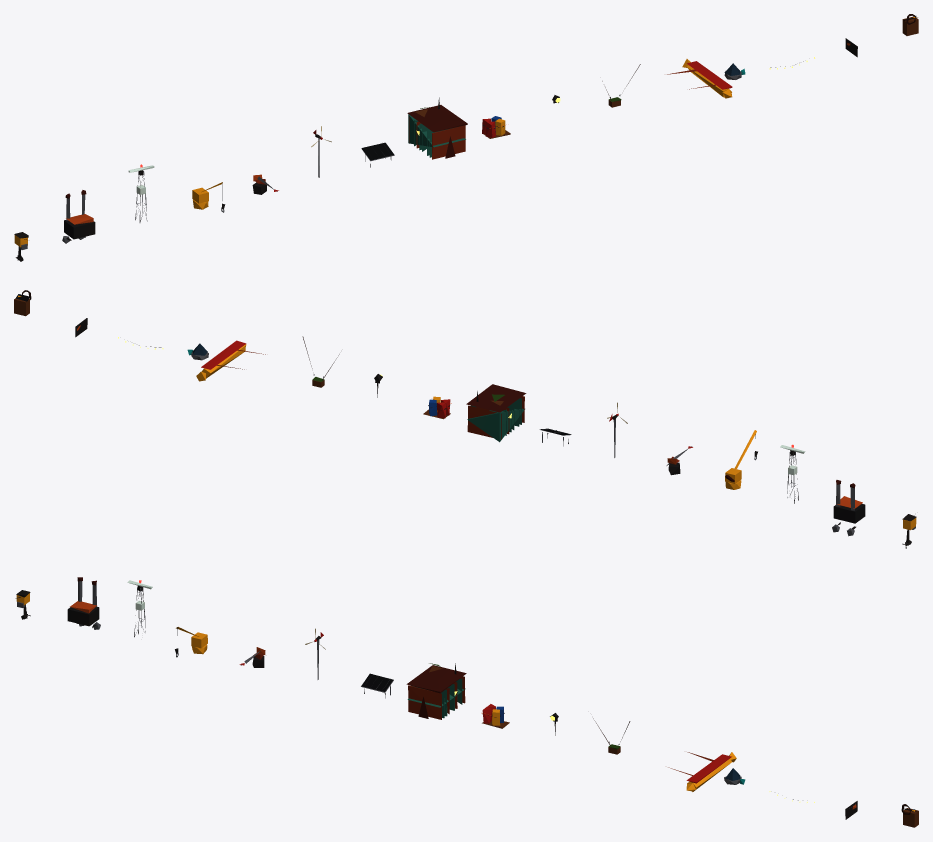
The model's file is tb_boat_kit.three-web-toon.lod25.glb.
3 renders of one model, top to bottom at view 1: azimuth 30°, elevation 25°; view 2: azimuth 150°, elevation 25°; view 3: azimuth 330°, elevation 25°, orthographic.
Visible parts, largest first — view 1: cabin_container_lod, engine_twin_lod, outrigger_lod; view 2: cabin_container_lod, engine_twin_lod, outrigger_lod; view 3: cabin_container_lod, engine_twin_lod, outrigger_lod.
Boxes of the visible parts, x1,y1,x2,y2 form: cabin_container_lod: [407, 97, 467, 159]; engine_twin_lod: [62, 190, 95, 243]; outrigger_lod: [667, 59, 732, 98]; cabin_container_lod: [466, 384, 526, 442]; engine_twin_lod: [832, 480, 865, 536]; outrigger_lod: [196, 340, 265, 381]; cabin_container_lod: [406, 663, 466, 719]; engine_twin_lod: [67, 577, 100, 629]; outrigger_lod: [668, 752, 736, 791].
Size of the model in its own units: 60.69 by 4.57 by 5.4.
